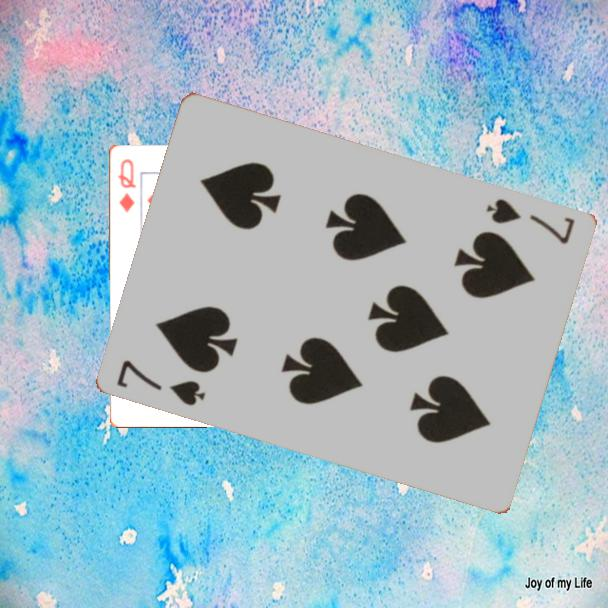d12: (114, 155, 139, 215)
s07: (483, 194, 579, 247), (113, 356, 209, 409)
